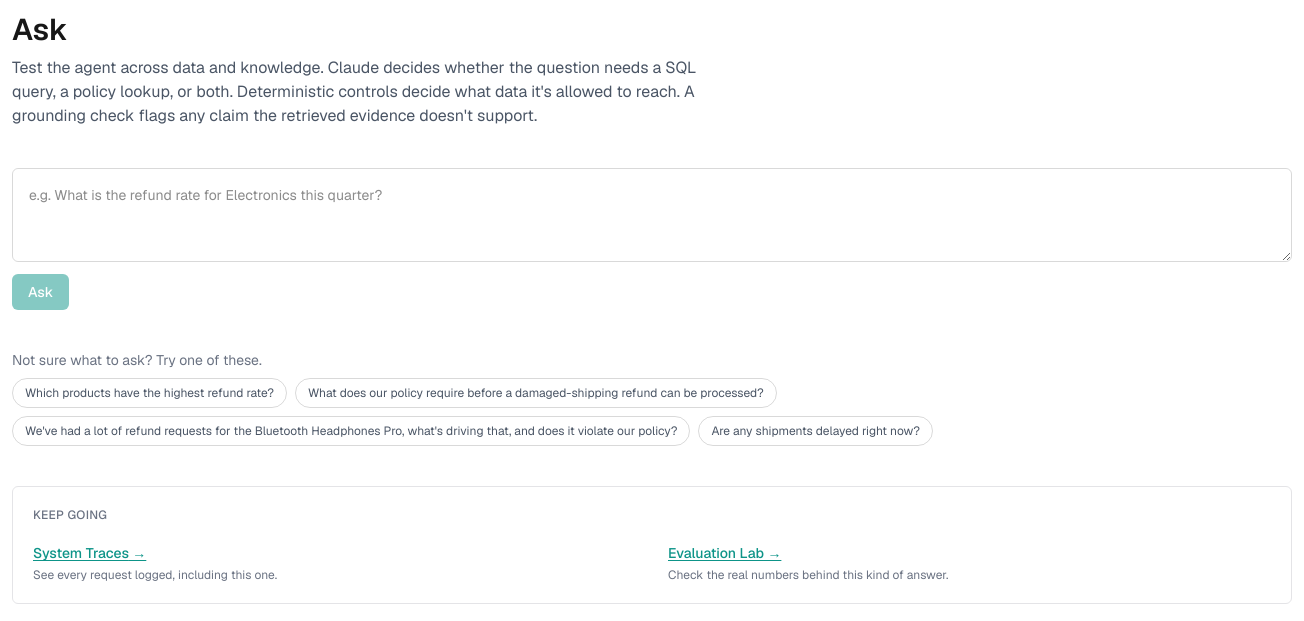
Test: Ask page example questions › clicking We've had a lot of refund requests for the Bluetooth Headphones Pro, what's driving that, and does it violate our policy? populates the textarea with t
Click the button named "We've had a lot of refund requests for the Bluetooth Headphones Pro, what's driving that, and does it violate our policy". click: (351, 431)
box: [12,416,690,446]
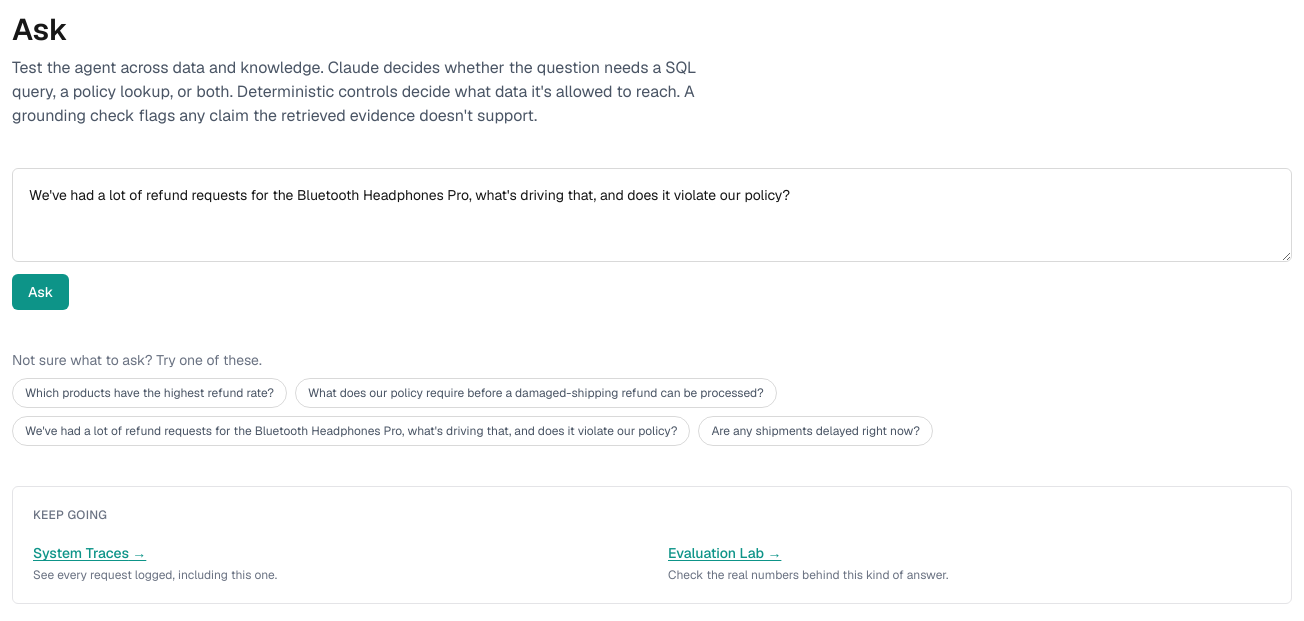
Now the text box with placeholder "e.g. What is the refund rate for Electronics this quarter?" holds "We've had a lot of refund requests for the Bluetooth Headphones Pro, what's driving that, and does it violate our policy?", box [12,168,1292,262]
